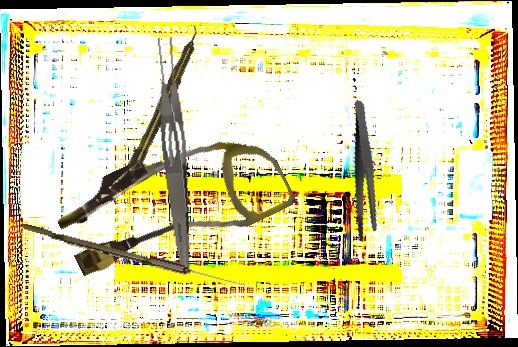Cannula: (48, 105, 298, 301)
Dressing Forceps: (150, 36, 202, 274), (326, 99, 403, 245)
Handpiece: (123, 24, 206, 179)
Surgical Spoon: (21, 223, 247, 290)
